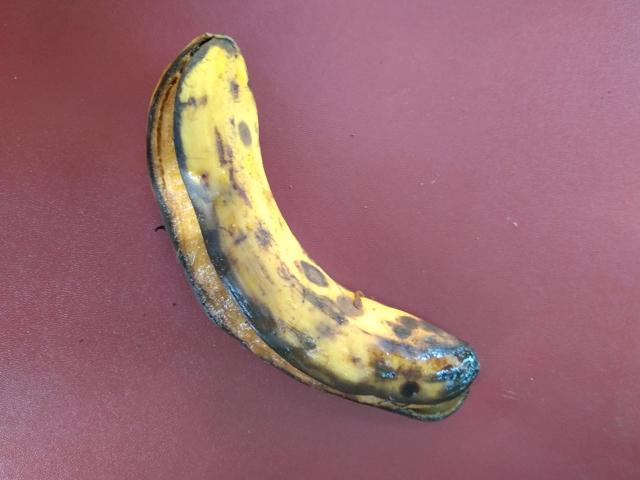rotten: (135, 16, 490, 435)
